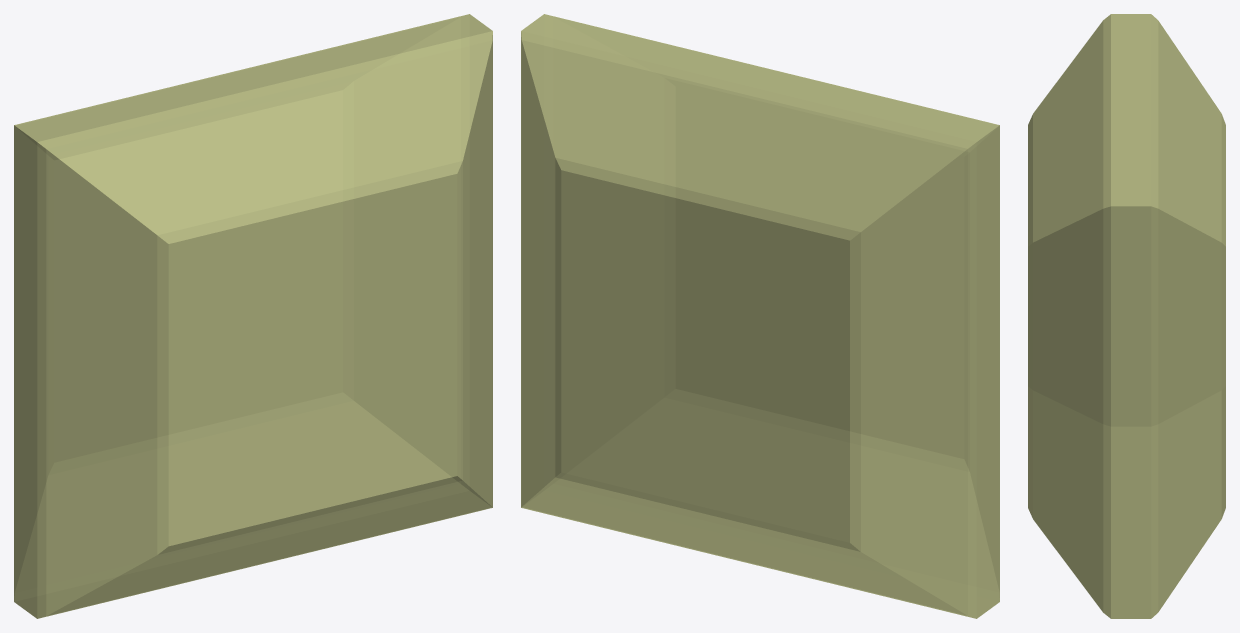
File: houseki0201.fbx
The picture shows the model from 3 angles, left to right: view 1: azimuth 30°, elevation 25°; view 2: azimuth 150°, elevation 25°; view 3: azimuth 270°, elevation 25°; orthographic projection. The views are drawn at different scales.
Parts seen in each view (by area): view 1: pCube1; view 2: pCube1; view 3: pCube1.
Boxes of the visible parts, x1=… form: pCube1: x1=14, y1=14, x2=492, y2=618; pCube1: x1=521, y1=14, x2=999, y2=618; pCube1: x1=1028, y1=14, x2=1225, y2=618.
Size of the model in its own units: 111 by 111 by 48.06.
